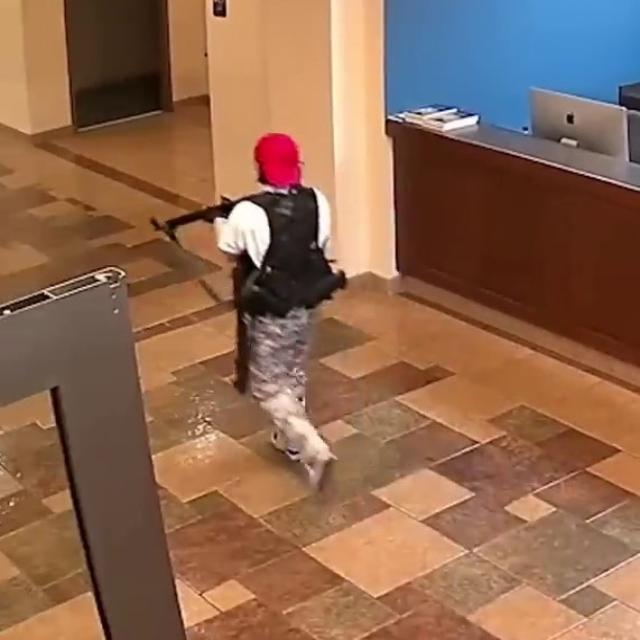Rifle: (148, 187, 278, 250)
